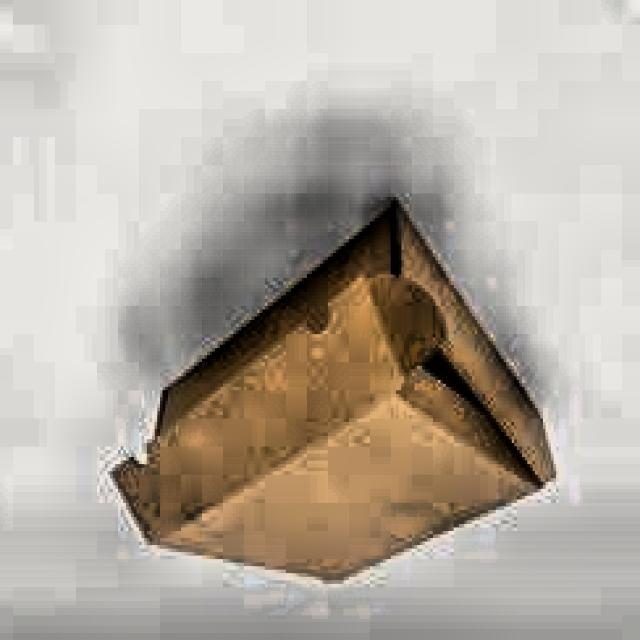cardboard: (110, 200, 556, 591)
